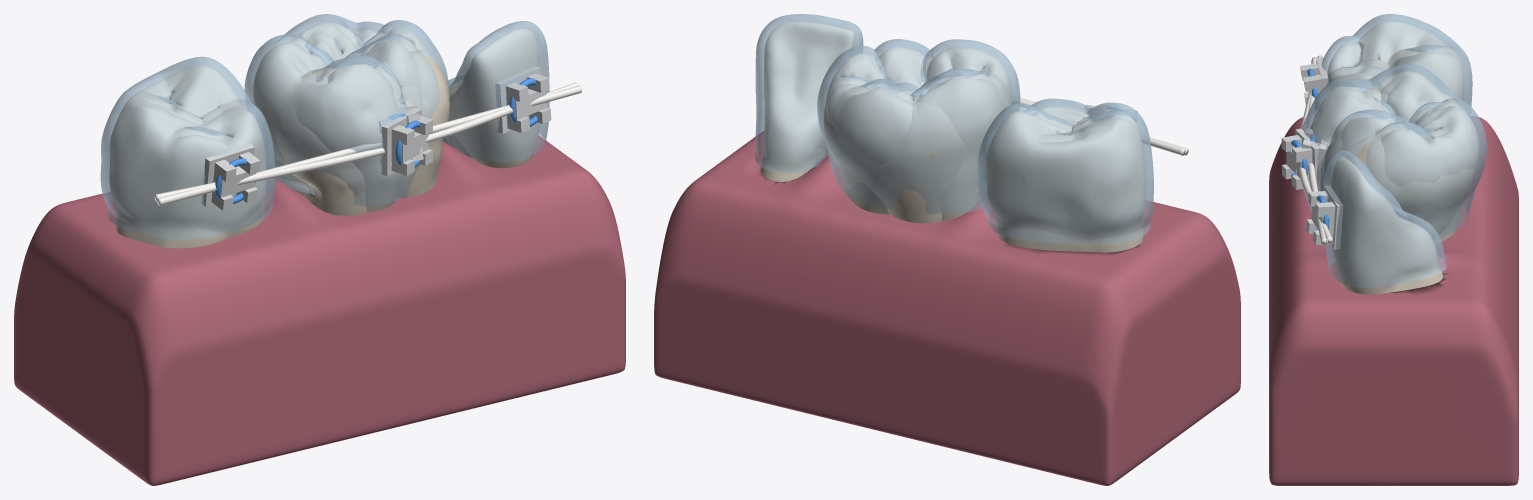
The model's file is ortho.glb.
3 renders of one model, left to right at view 1: azimuth 30°, elevation 25°; view 2: azimuth 150°, elevation 25°; view 3: azimuth 270°, elevation 25°, orthographic. The views are drawn at different scales.
Visible parts, largest first — view 1: SEC_Gum_Standard_Front, ORT_Aligner_Tray, SEC_ADJ_Left, ORT_Tooth_Crooked, SEC_Gum_Standard, ORT_Tooth_Aligned, SEC_ADJ_Right, ORT_Brackets_Metal_Crooked, ORT_Brackets_Metal_Aligned, ORT_Wire_Ceramic_Crooked, ORT_Wire_Ceramic_Aligned, ORT_Ties_Metal_Crooked; view 2: SEC_Gum_Standard, ORT_Aligner_Tray, SEC_ADJ_Left, ORT_Tooth_Crooked, SEC_Gum_Standard_Front, SEC_ADJ_Right, ORT_Tooth_Aligned; view 3: ORT_Aligner_Tray, SEC_Gum_Standard, SEC_Gum_Standard_Front, ORT_Tooth_Crooked, SEC_ADJ_Right, SEC_ADJ_Left, ORT_Tooth_Aligned, ORT_Brackets_Metal_Crooked, ORT_Brackets_Metal_Aligned, ORT_Wire_Ceramic_Aligned, ORT_Wire_Ceramic_Crooked, ORT_Ties_Metal_Crooked.
Part boxes in pixels (x1=…): SEC_Gum_Standard_Front: x1=83, y1=136, x2=625, y2=485; ORT_Aligner_Tray: x1=100, y1=14, x2=549, y2=239; SEC_ADJ_Left: x1=109, y1=65, x2=266, y2=248; ORT_Tooth_Crooked: x1=253, y1=22, x2=430, y2=212; SEC_Gum_Standard: x1=14, y1=135, x2=541, y2=437; ORT_Tooth_Aligned: x1=273, y1=49, x2=449, y2=215; SEC_ADJ_Right: x1=443, y1=29, x2=539, y2=168; ORT_Brackets_Metal_Crooked: x1=203, y1=67, x2=551, y2=206; ORT_Brackets_Metal_Aligned: x1=201, y1=66, x2=550, y2=210; ORT_Wire_Ceramic_Crooked: x1=154, y1=82, x2=578, y2=201; ORT_Wire_Ceramic_Aligned: x1=157, y1=85, x2=581, y2=205; ORT_Ties_Metal_Crooked: x1=215, y1=79, x2=547, y2=203; SEC_Gum_Standard: x1=654, y1=147, x2=1179, y2=485; ORT_Aligner_Tray: x1=755, y1=14, x2=1153, y2=244; SEC_ADJ_Left: x1=986, y1=106, x2=1145, y2=252; ORT_Tooth_Crooked: x1=825, y1=47, x2=1011, y2=220; SEC_Gum_Standard_Front: x1=739, y1=130, x2=1240, y2=435; SEC_ADJ_Right: x1=760, y1=21, x2=854, y2=181; ORT_Tooth_Aligned: x1=824, y1=52, x2=1009, y2=223; ORT_Aligner_Tray: x1=1302, y1=14, x2=1486, y2=288; SEC_Gum_Standard: x1=1389, y1=116, x2=1518, y2=485; SEC_Gum_Standard_Front: x1=1269, y1=117, x2=1389, y2=485; ORT_Tooth_Crooked: x1=1310, y1=71, x2=1479, y2=243; SEC_ADJ_Right: x1=1331, y1=157, x2=1443, y2=294; SEC_ADJ_Left: x1=1327, y1=21, x2=1464, y2=100; ORT_Tooth_Aligned: x1=1322, y1=87, x2=1473, y2=234; ORT_Brackets_Metal_Crooked: x1=1281, y1=57, x2=1343, y2=249; ORT_Brackets_Metal_Aligned: x1=1295, y1=56, x2=1342, y2=249; ORT_Wire_Ceramic_Aligned: x1=1307, y1=57, x2=1327, y2=245; ORT_Wire_Ceramic_Crooked: x1=1298, y1=55, x2=1332, y2=243; ORT_Ties_Metal_Crooked: x1=1291, y1=69, x2=1329, y2=230.
Bounding box in the file's own units: 3.13 × 2.13 × 1.57.
